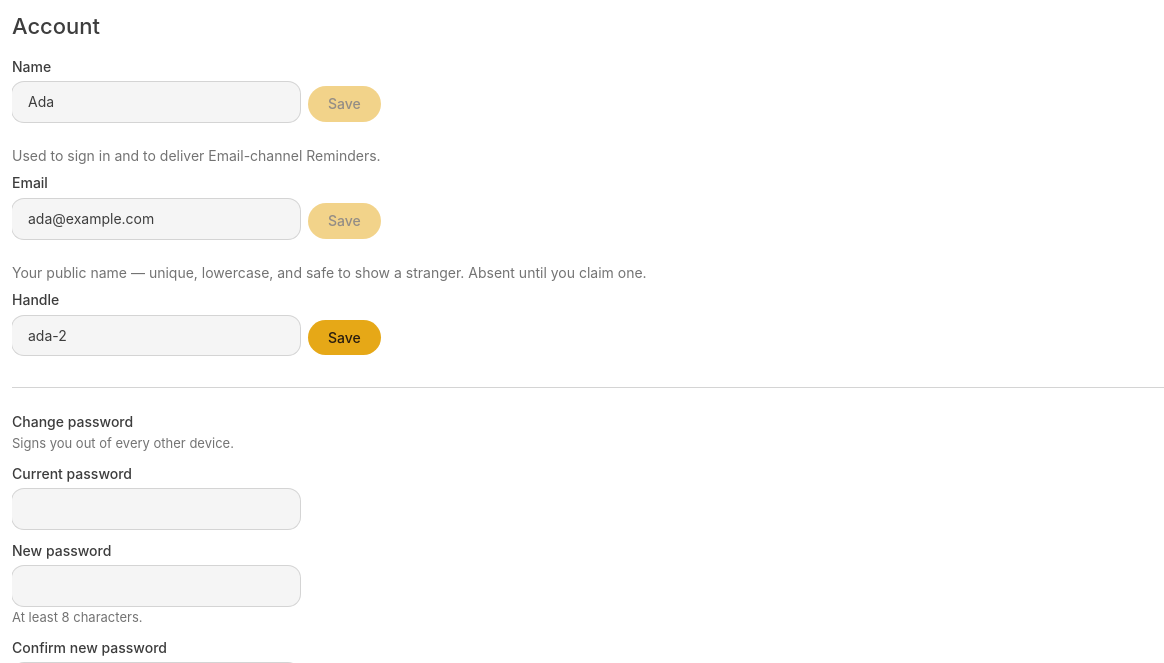
Test: AccountSection — Name/Email normalization (#245) › re-syncs the Email field from the server's normalized value after save
Replace the text in the field labelled "Email" with "QA.Tester@Calich.TEST" at (156, 219), box [12, 199, 300, 239]
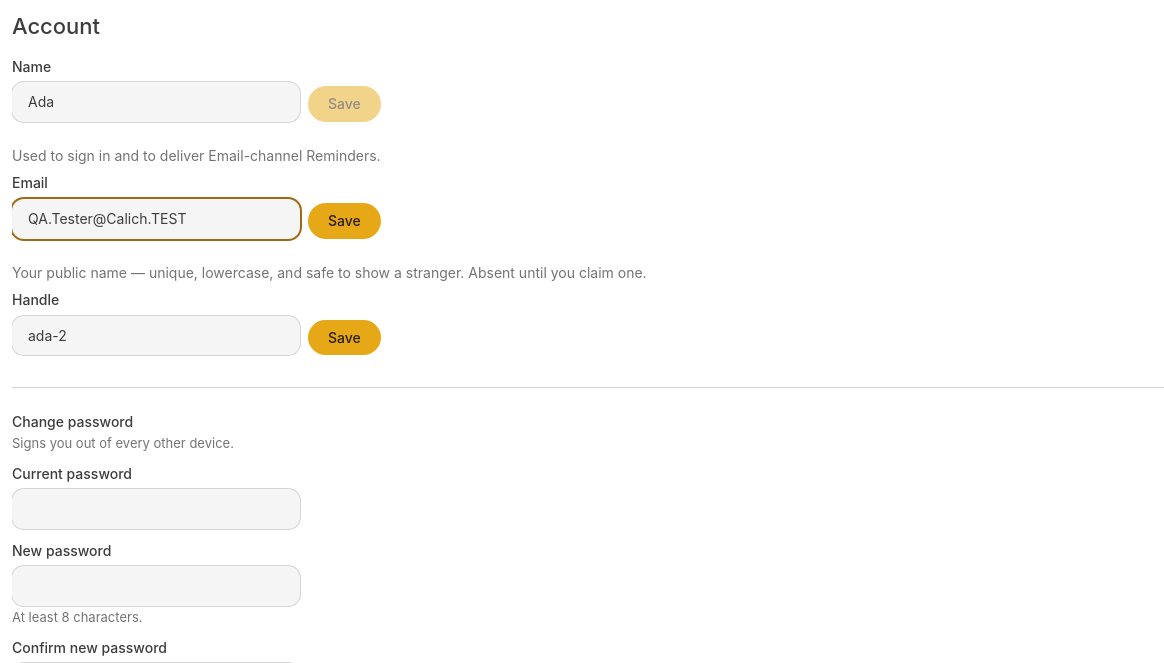
Click the 2nd button "Save" at (344, 221), box [308, 203, 381, 239]
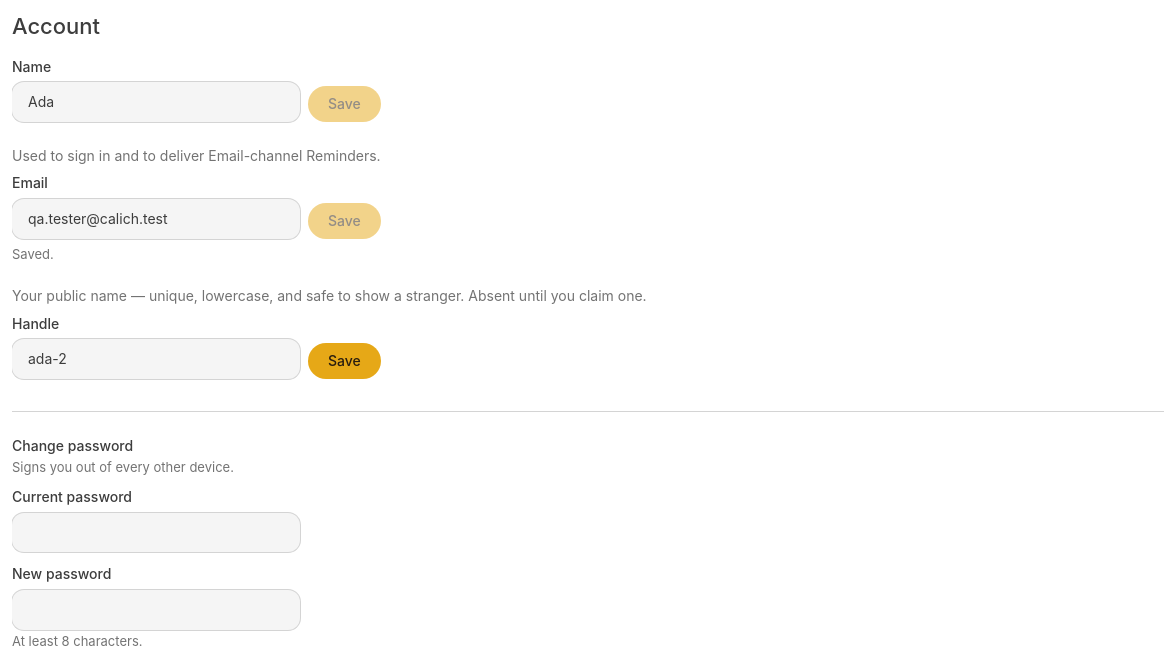
Expected: the 2nd button "Save" is disabled, [308, 203, 381, 239]
